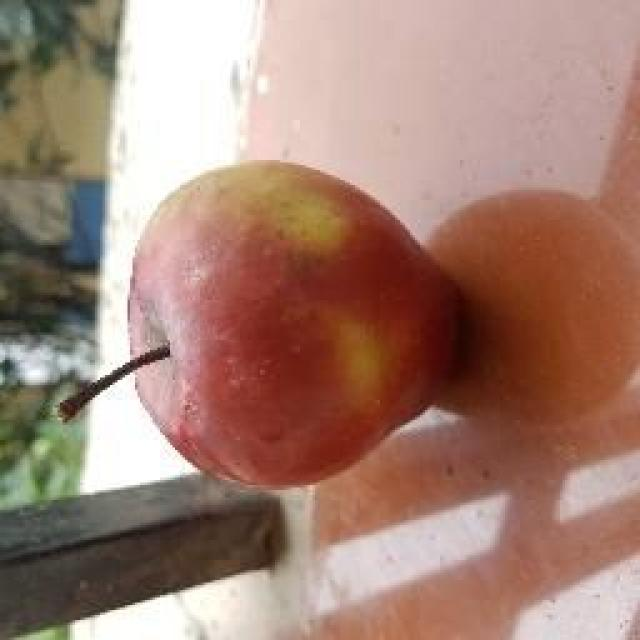Good_Apple: (130, 161, 458, 487)
